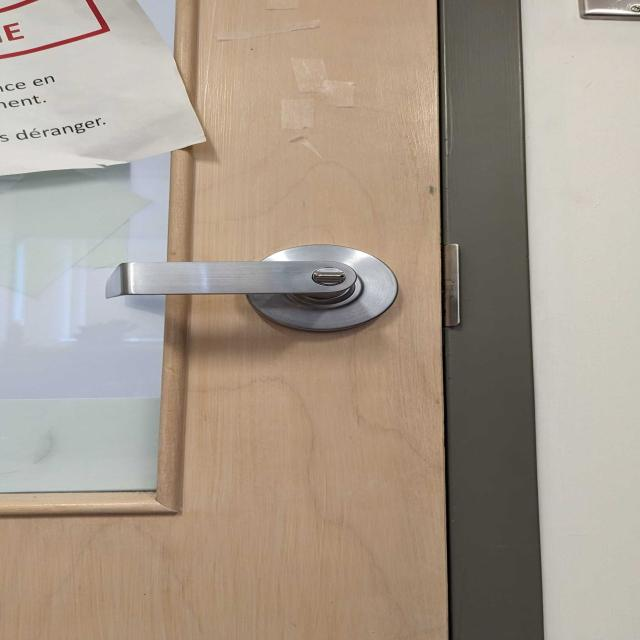door-handle: (107, 245, 398, 331)
